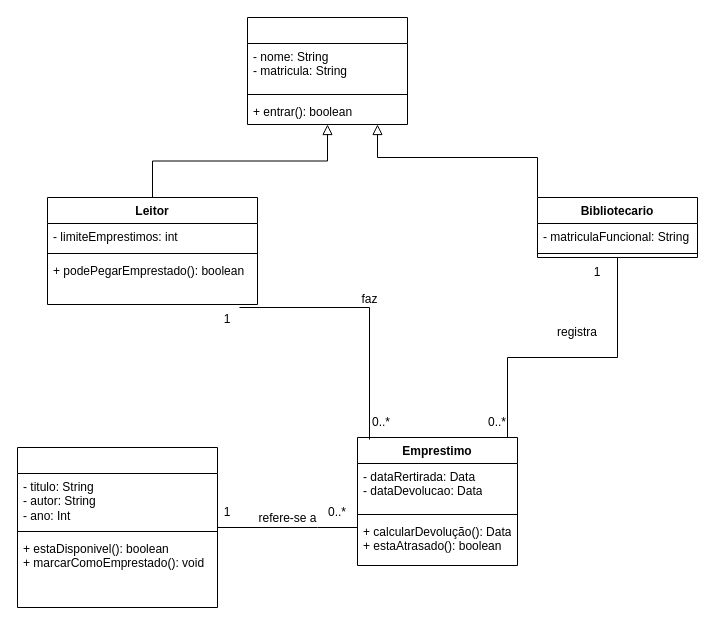
Some shapes in this 715 by 628 pixel diagram are drawn without their labels. Each missing label, with the box of its shape:
Livro: (16, 446, 218, 608)
Usuario: (246, 16, 408, 124)
